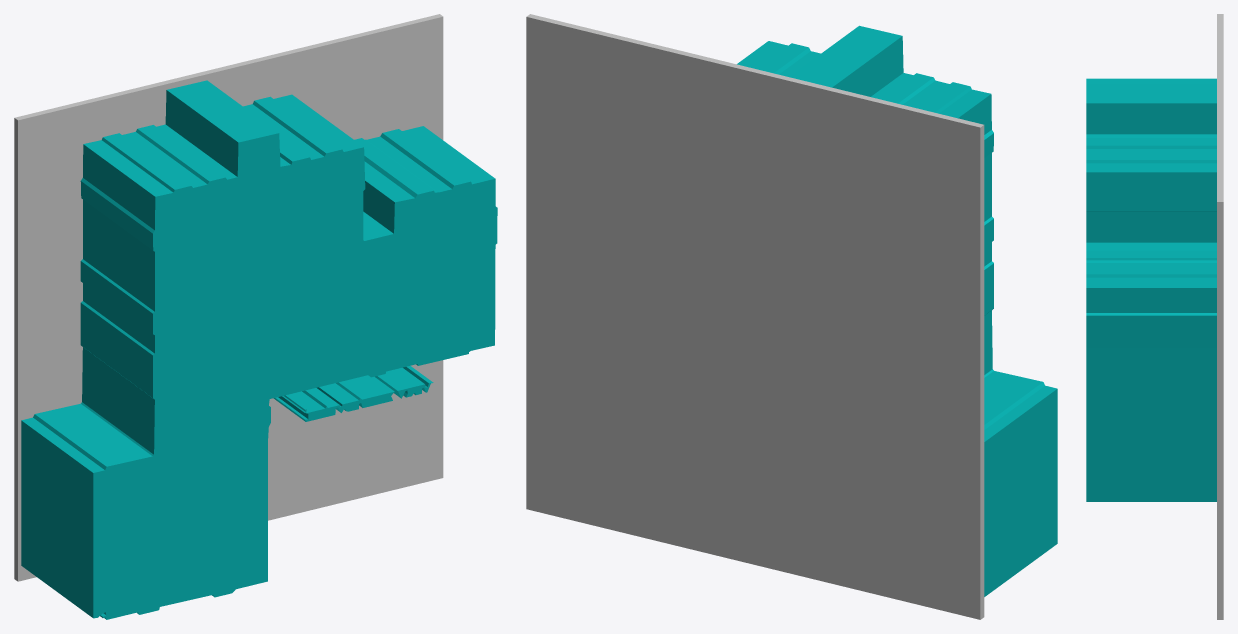
3 views of the same model, side by side, from view 1: azimuth 30°, elevation 25°; view 2: azimuth 150°, elevation 25°; view 3: azimuth 270°, elevation 25° (orthographic). The views are drawn at different scales.
Parts seen in each view (by area): view 1: world; view 2: world; view 3: world.
Boxes of the visible parts, x1,y1,x2,y2 form: world: [14, 14, 497, 619]; world: [526, 14, 1057, 619]; world: [1086, 14, 1223, 619].
Size of the model in its own units: 10.23 by 10.6 by 3.15.
